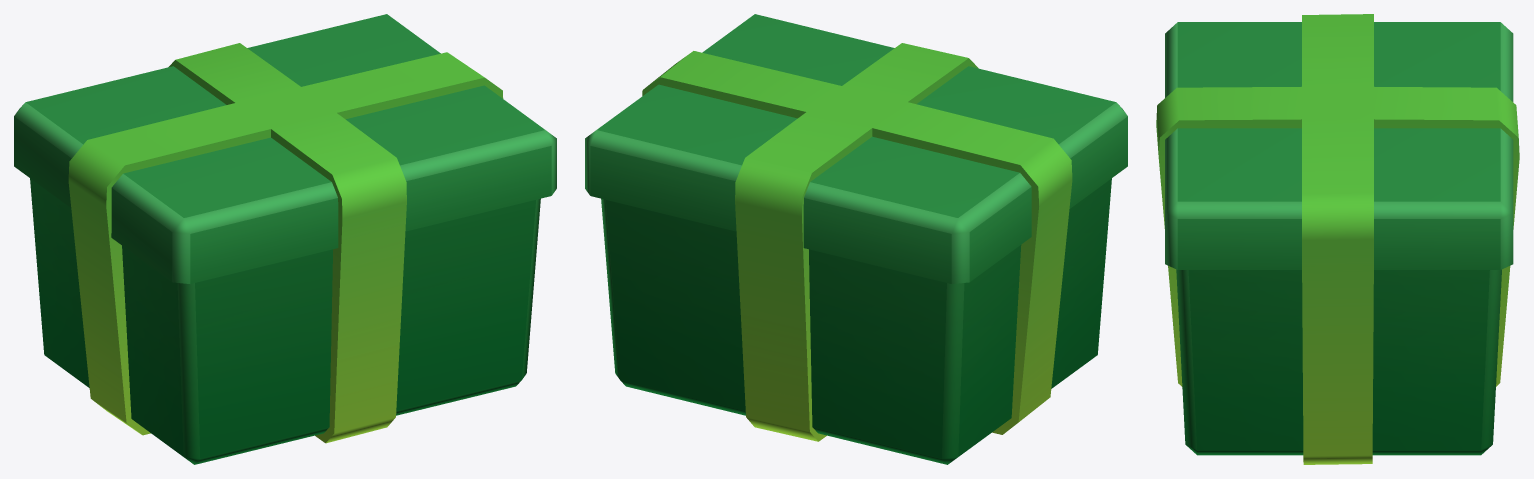
File: giftbox_018.fbx
3 renders of one model, left to right at view 1: azimuth 30°, elevation 25°; view 2: azimuth 150°, elevation 25°; view 3: azimuth 270°, elevation 25°, orthographic.
Parts seen in each view (by area): view 1: giftbox_018; view 2: giftbox_018; view 3: giftbox_018.
Boxes of the visible parts, bbox=[...] form: giftbox_018: bbox=[14, 14, 556, 464]; giftbox_018: bbox=[585, 14, 1127, 464]; giftbox_018: bbox=[1156, 14, 1519, 464].
Size of the model in its own units: 285 by 220 by 188.
